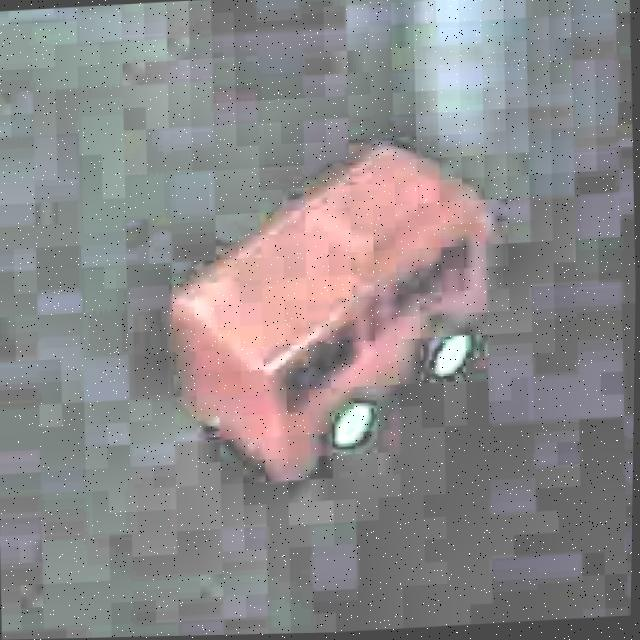bus: (155, 131, 510, 508)
